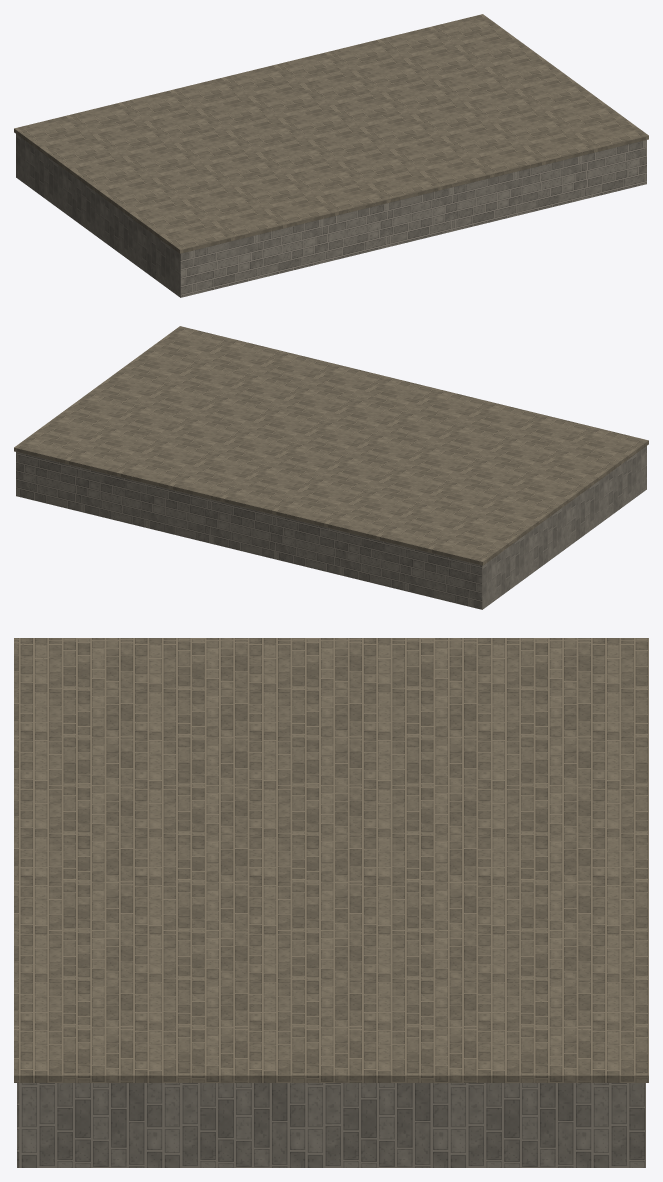
File: SM_Art_Masonry_1800x1100x180.gltf
3 views of the same model, one above another, from view 1: azimuth 30°, elevation 25°; view 2: azimuth 150°, elevation 25°; view 3: azimuth 270°, elevation 25° (orthographic). The views are drawn at different scales.
Parts seen in each view (by area): view 1: SM_Art_Masonry_1800x1100x180; view 2: SM_Art_Masonry_1800x1100x180; view 3: SM_Art_Masonry_1800x1100x180.
Part boxes in pixels (x1=…): SM_Art_Masonry_1800x1100x180: x1=14, y1=14, x2=648, y2=297; SM_Art_Masonry_1800x1100x180: x1=14, y1=326, x2=648, y2=609; SM_Art_Masonry_1800x1100x180: x1=14, y1=638, x2=648, y2=1167.
Bounding box in the file's own units: 18.1 × 1.8 × 11.1.
2 materials, 2 textured.
